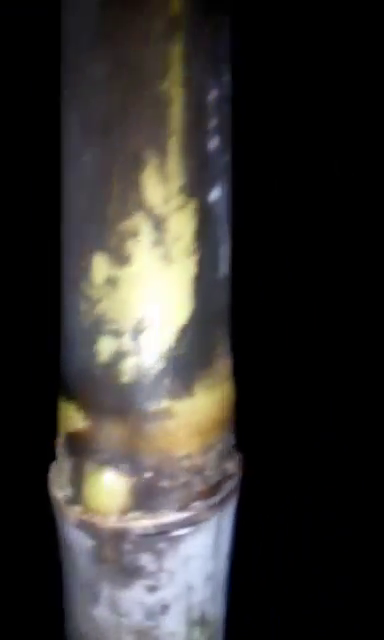cane eye: (77, 465, 136, 519)
